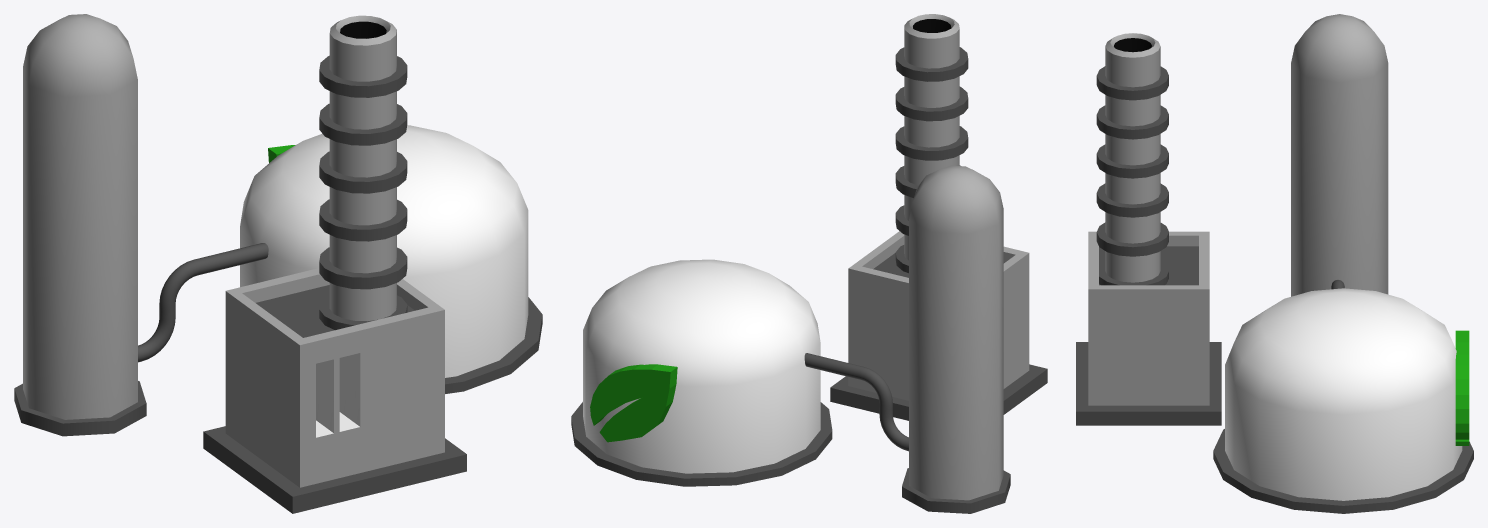
File: BiomassMachine.fbx
The picture shows the model from 3 angles, left to right: view 1: azimuth 30°, elevation 25°; view 2: azimuth 150°, elevation 25°; view 3: azimuth 270°, elevation 25°; orthographic projection. The views are drawn at different scales.
Parts seen in each view (by area): view 1: biomass_logo; view 2: biomass_logo; view 3: biomass_logo.
Part boxes in pixels (x1,y1,x2,y2): biomass_logo: (14,14,542,513); biomass_logo: (571,14,1047,513); biomass_logo: (1076,14,1473,513).
Bounding box in the file's own units: 968 × 802 × 811.
